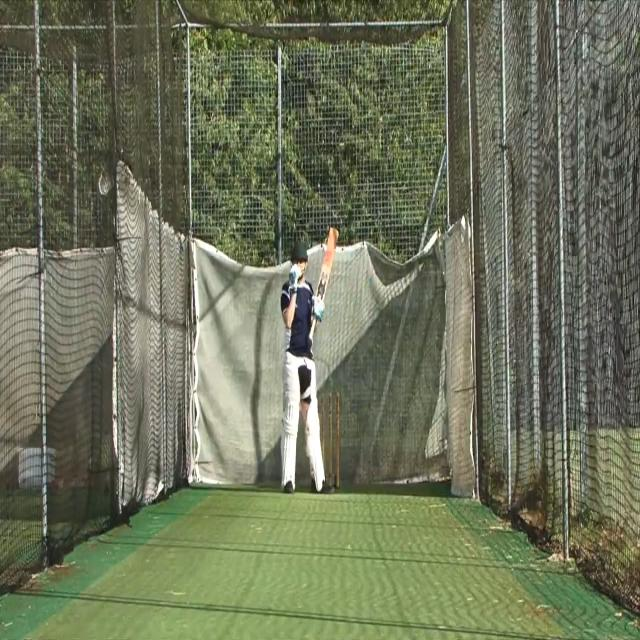batsman: (278, 224, 339, 496)
